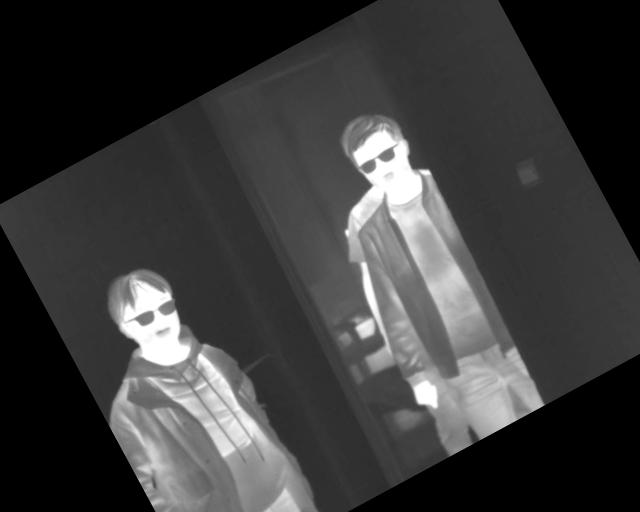face: (94, 255, 195, 364), (336, 104, 428, 206)
